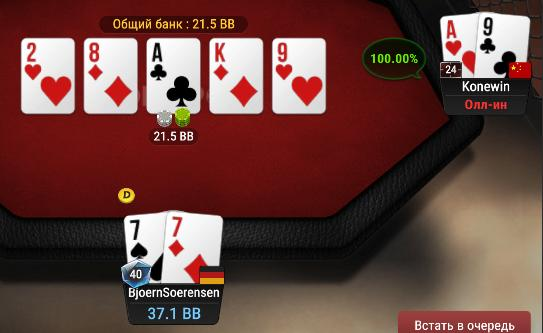2h: (21, 39, 74, 114)
7d: (166, 209, 223, 284)
7s: (123, 211, 164, 283)
8d: (84, 39, 136, 114)
9c: (478, 10, 530, 78)
9h: (272, 38, 325, 113)
Ac: (147, 38, 200, 114)
Ah: (439, 14, 478, 79)
Kd: (210, 39, 262, 114)
